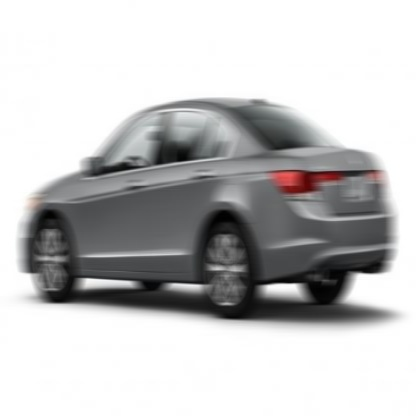Vehicle: (23, 97, 395, 321)
